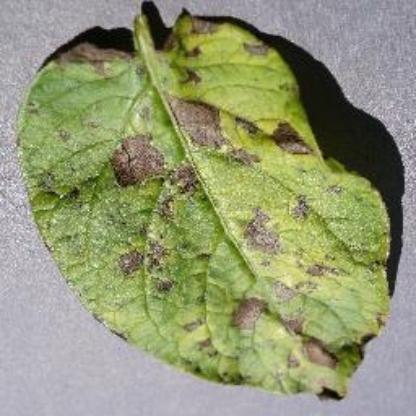Early-Blight: (17, 6, 395, 402)
